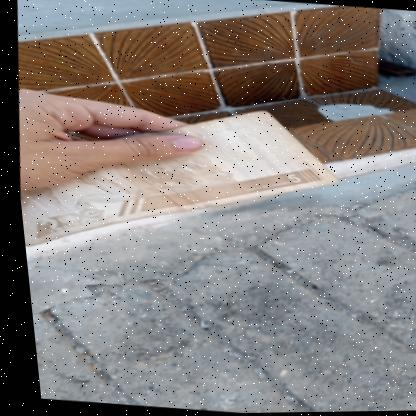vef_back: (8, 89, 349, 273)
